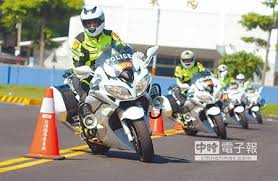helmet: (80, 7, 104, 38), (177, 49, 197, 71)
